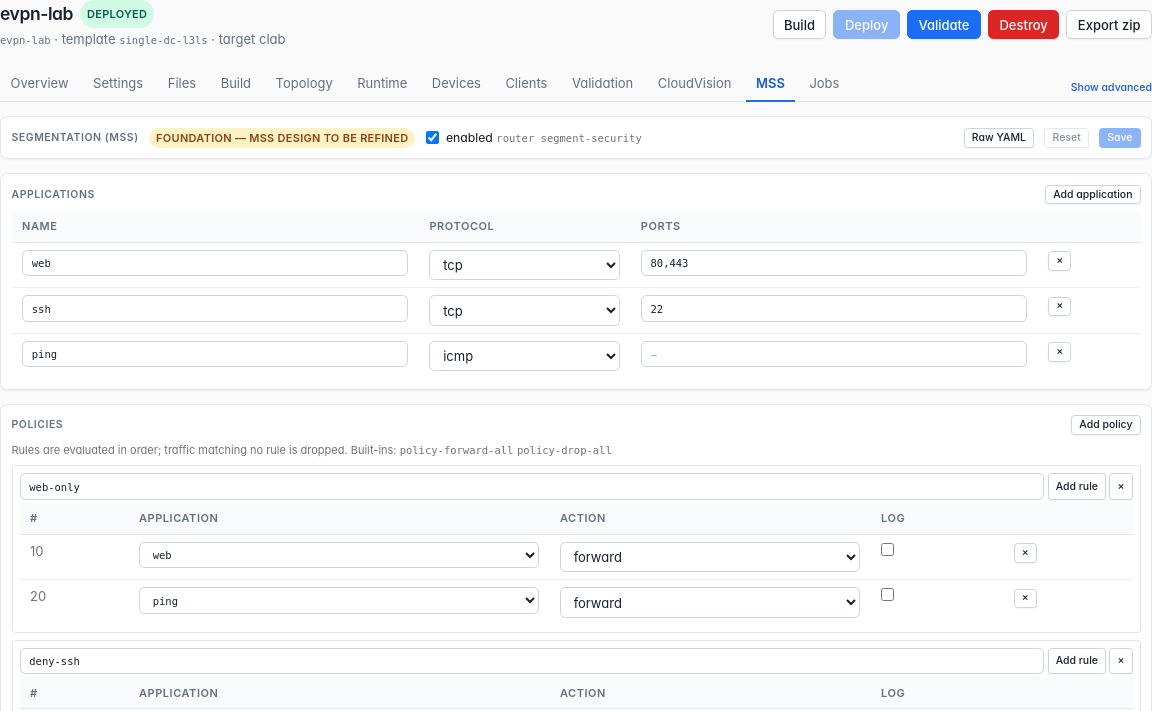
Test: MSS › raw YAML toggle shows the knob document
The width and height of the screenshot is (1152, 711).
Click the button with test id "mss-raw-toggle" at (999, 138), box [964, 128, 1034, 148]
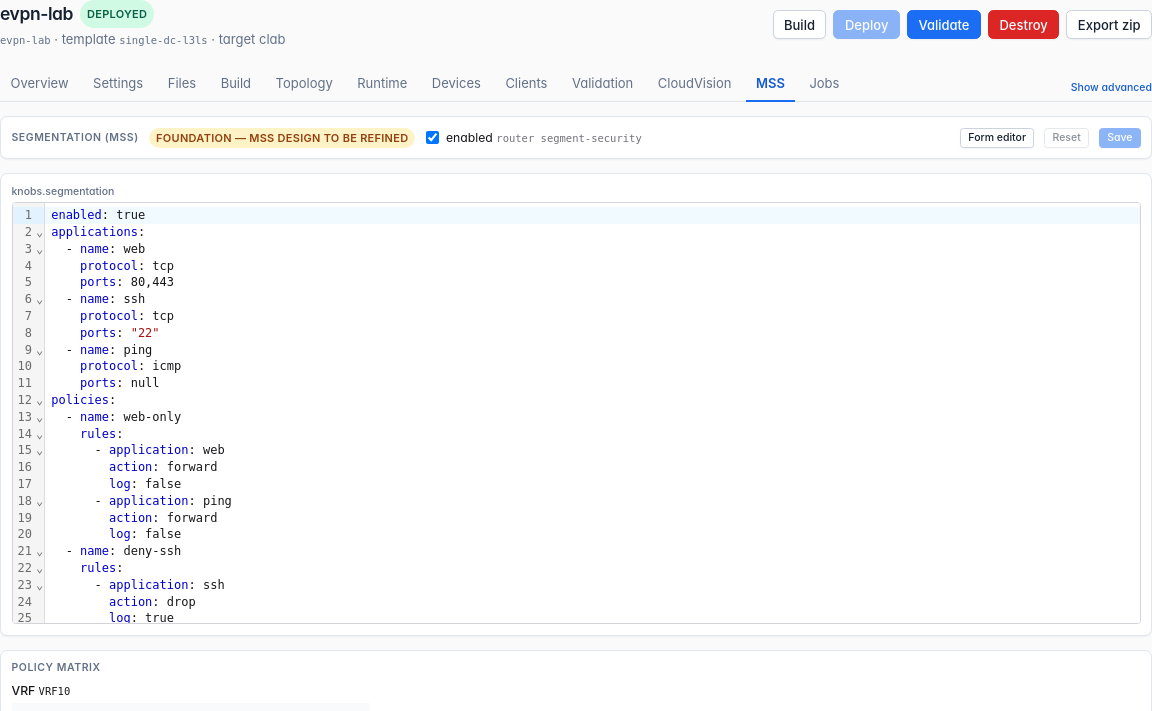
Expected: the element with test id "mss-raw" is shown
Expected: the element with test id "mss-apps" is gone
